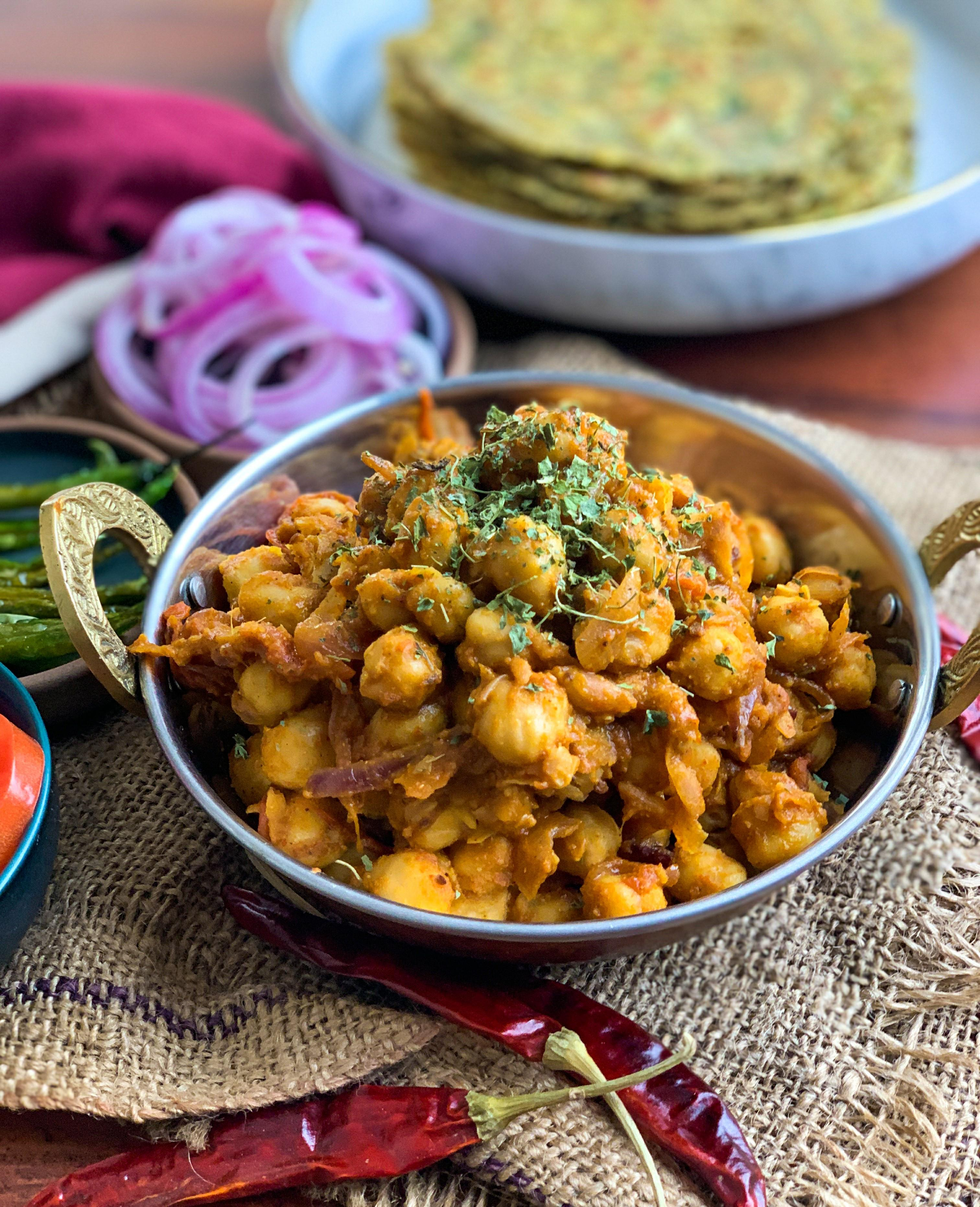Chole: (135, 400, 875, 923)
